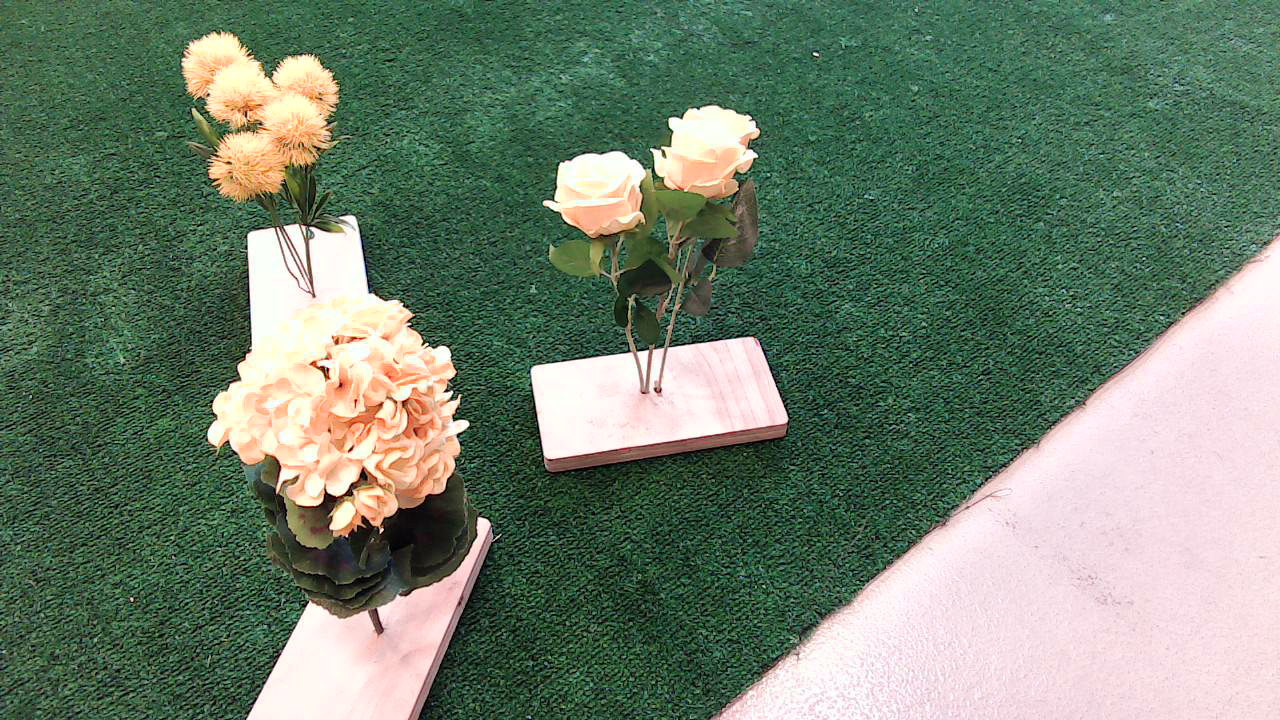dandelion: (169, 35, 363, 246)
geranium: (202, 304, 489, 630)
rose: (520, 107, 795, 329)
